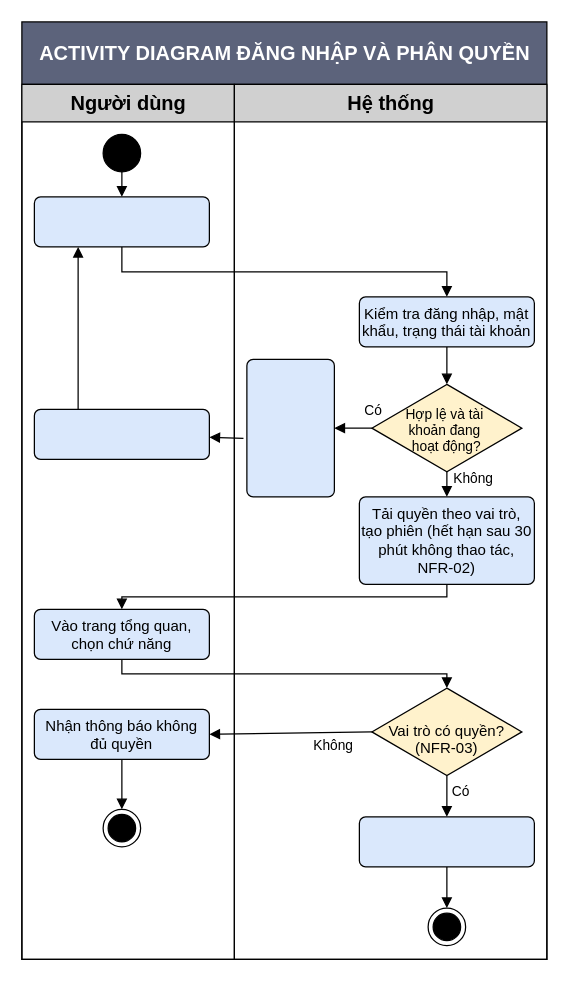
This 569x981 diagram has some shape labels left out. The box of each missing label's shape, as (x1, y1, x2, y2) in pixels:
Báo lỗi chung, tăng bộ đếm; sai 5 lần thì khóa 15 phút (NFR-01): (246, 358, 334, 497)
Cho phép thực hiện chức năng: (358, 816, 534, 867)
Nhận thông báo lỗi: (33, 408, 209, 459)
Nhập tên đăng nhập, mật khẩu, bấm Đăng nhập: (33, 196, 209, 247)
